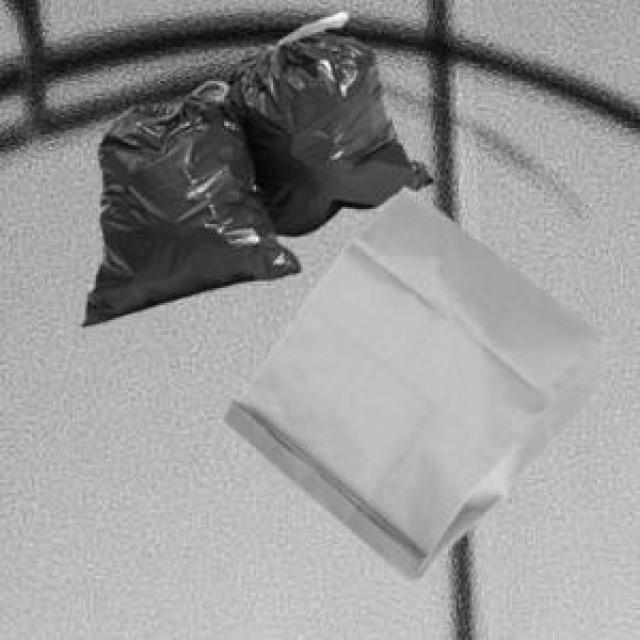miscellaneous trash: (77, 9, 429, 322)
paper: (220, 184, 604, 578)
